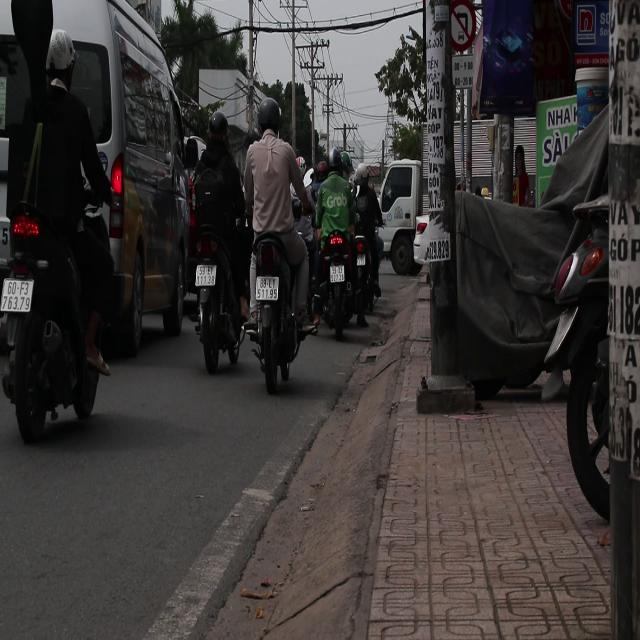car: (0, 0, 203, 370)
motorbike: (8, 178, 105, 441), (184, 212, 246, 388), (246, 235, 312, 392), (312, 209, 364, 343), (351, 220, 384, 319)
truck: (378, 160, 422, 278)
